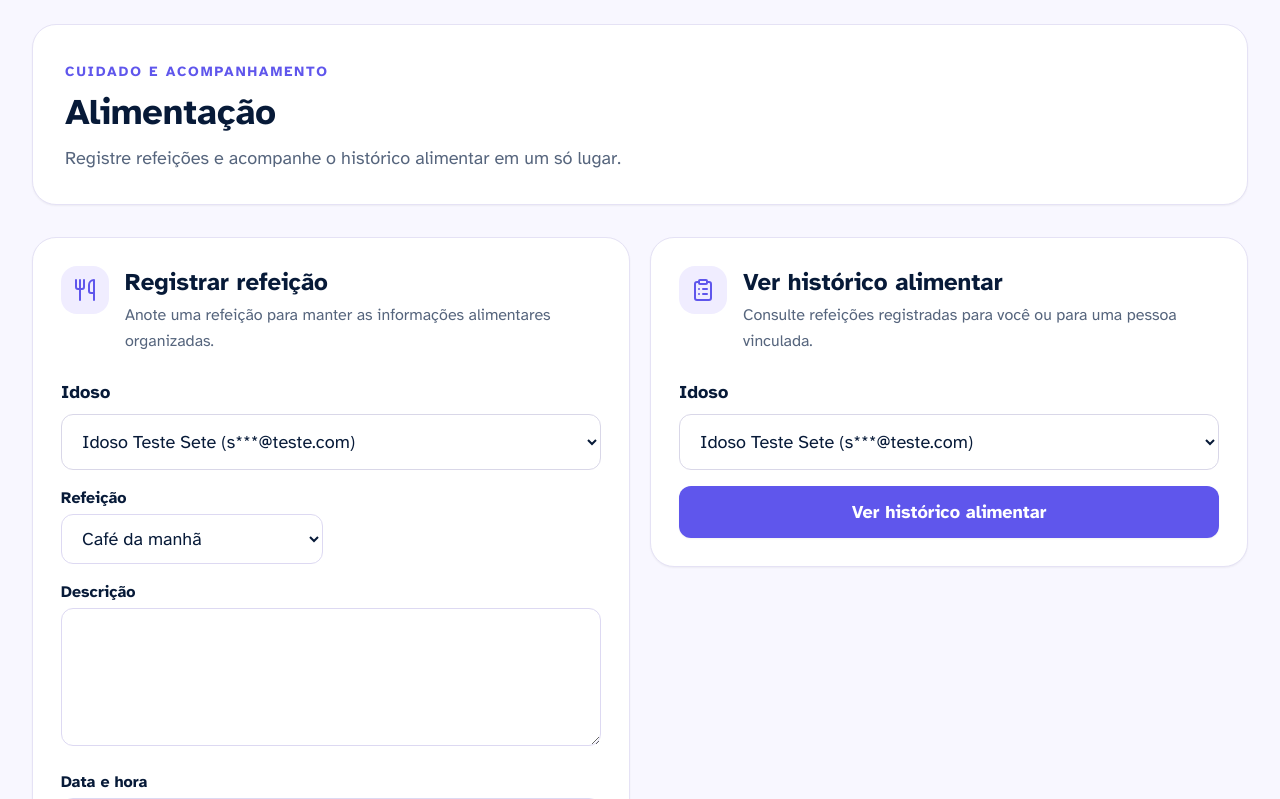
Alimentacao: acessibilidade › erro 400 em role=alert visível
Type "Descricao Ficticia" into the text box labelled "Descrição".
click(331, 677); type("Descricao Ficticia")  # box [61,608,601,746]
(page scrolled)
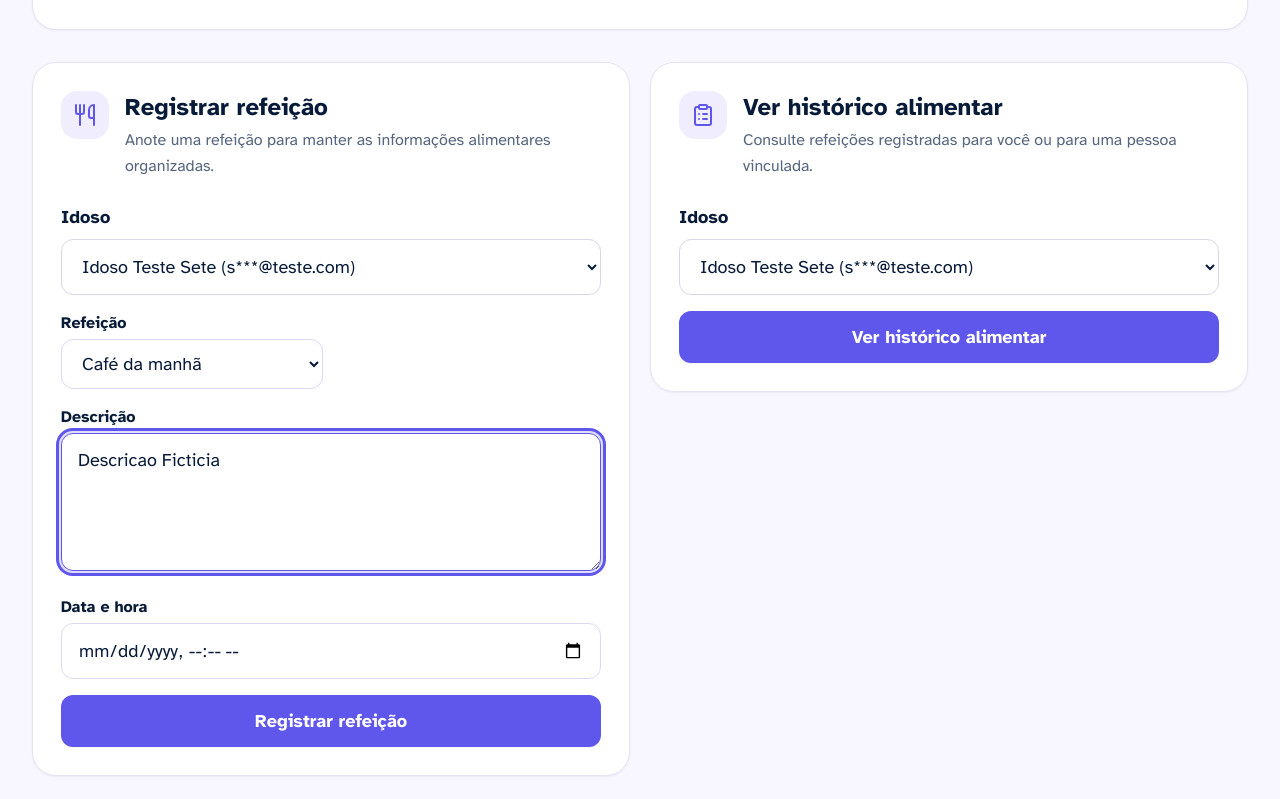
Type "2026-10-10T12:30" into the field labelled "Data e hora".
click(331, 651); type("2026-10-10T12:30")  # box [61,623,601,679]
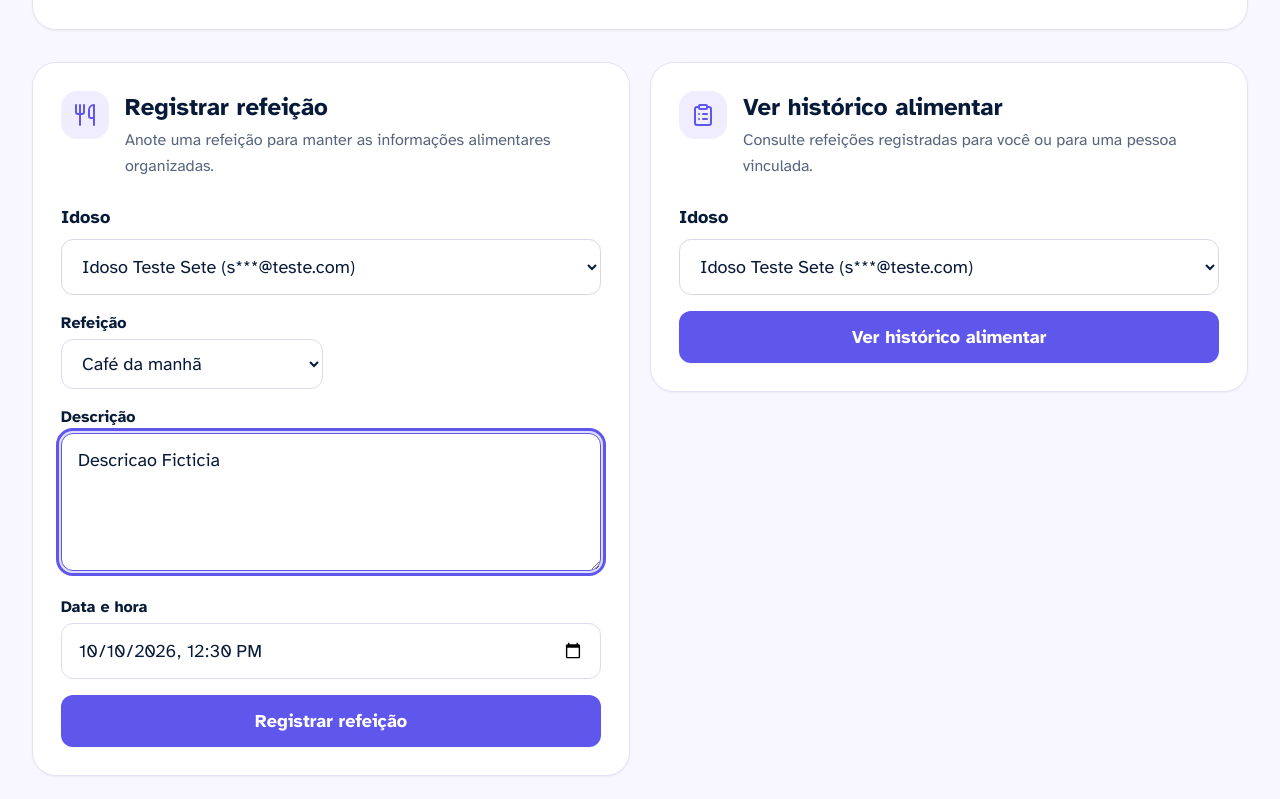
Click the button "Registrar refeição".
click(331, 721)  # box [61,695,601,747]
(page scrolled)
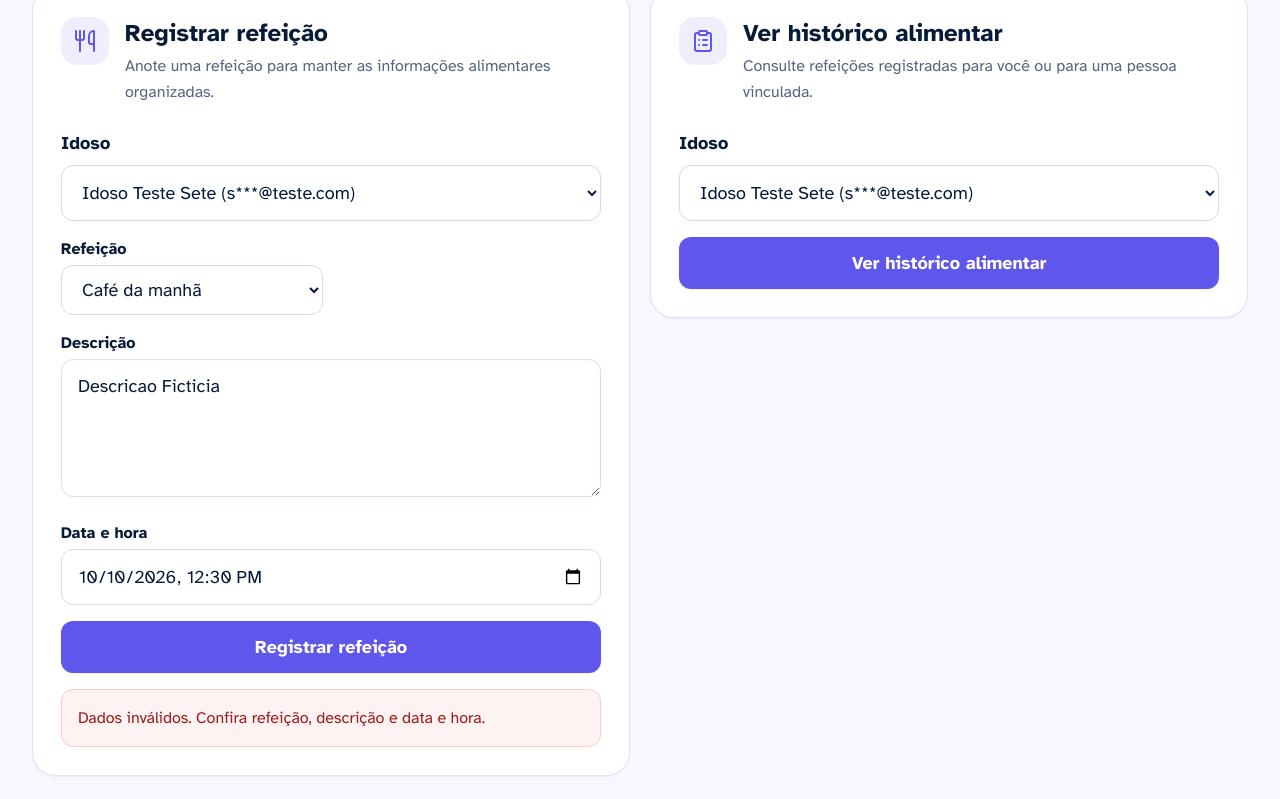
Check: the message "Dados inválidos. Confira refeição, descrição e data e hora." is shown, box [61,689,601,747]
